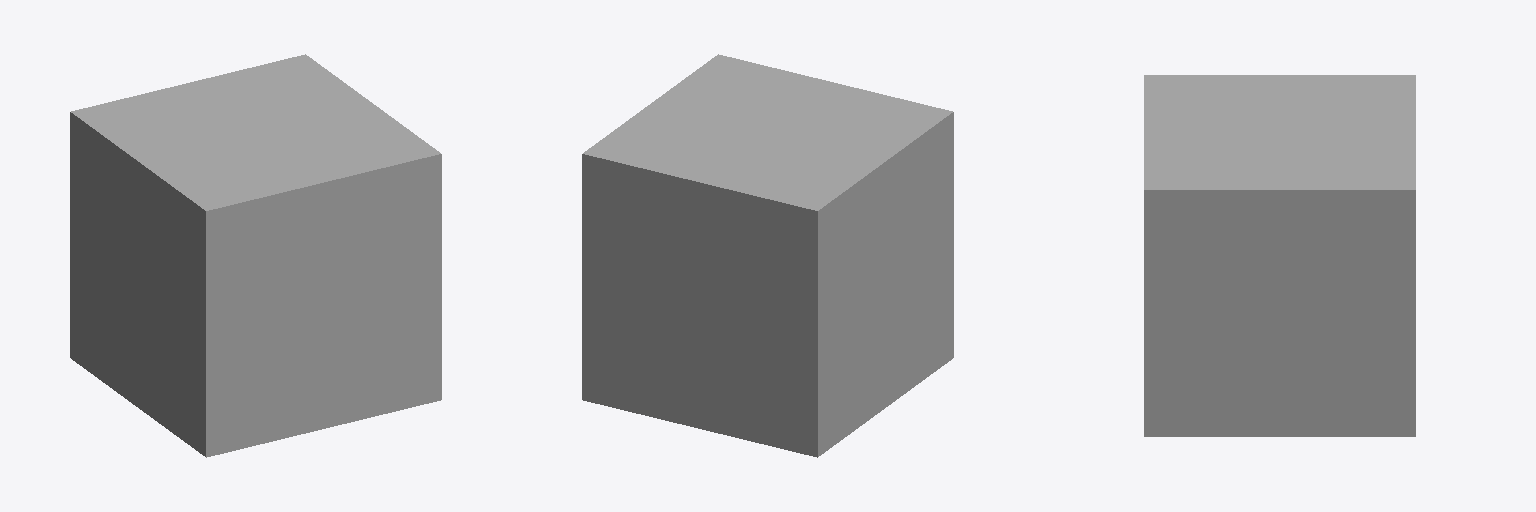
The picture shows the model from 3 angles: view 1: azimuth 30°, elevation 25°; view 2: azimuth 150°, elevation 25°; view 3: azimuth 270°, elevation 25°; orthographic projection.
Parts seen in each view (by area): view 1: Cube; view 2: Cube; view 3: Cube.
Part boxes in pixels (x1,y1,x2,y2): Cube: (70, 54, 441, 457); Cube: (582, 54, 953, 457); Cube: (1144, 75, 1415, 436).
Bounding box in the file's own units: 2 × 2 × 2.
Materials: 1 (1 with a texture image).